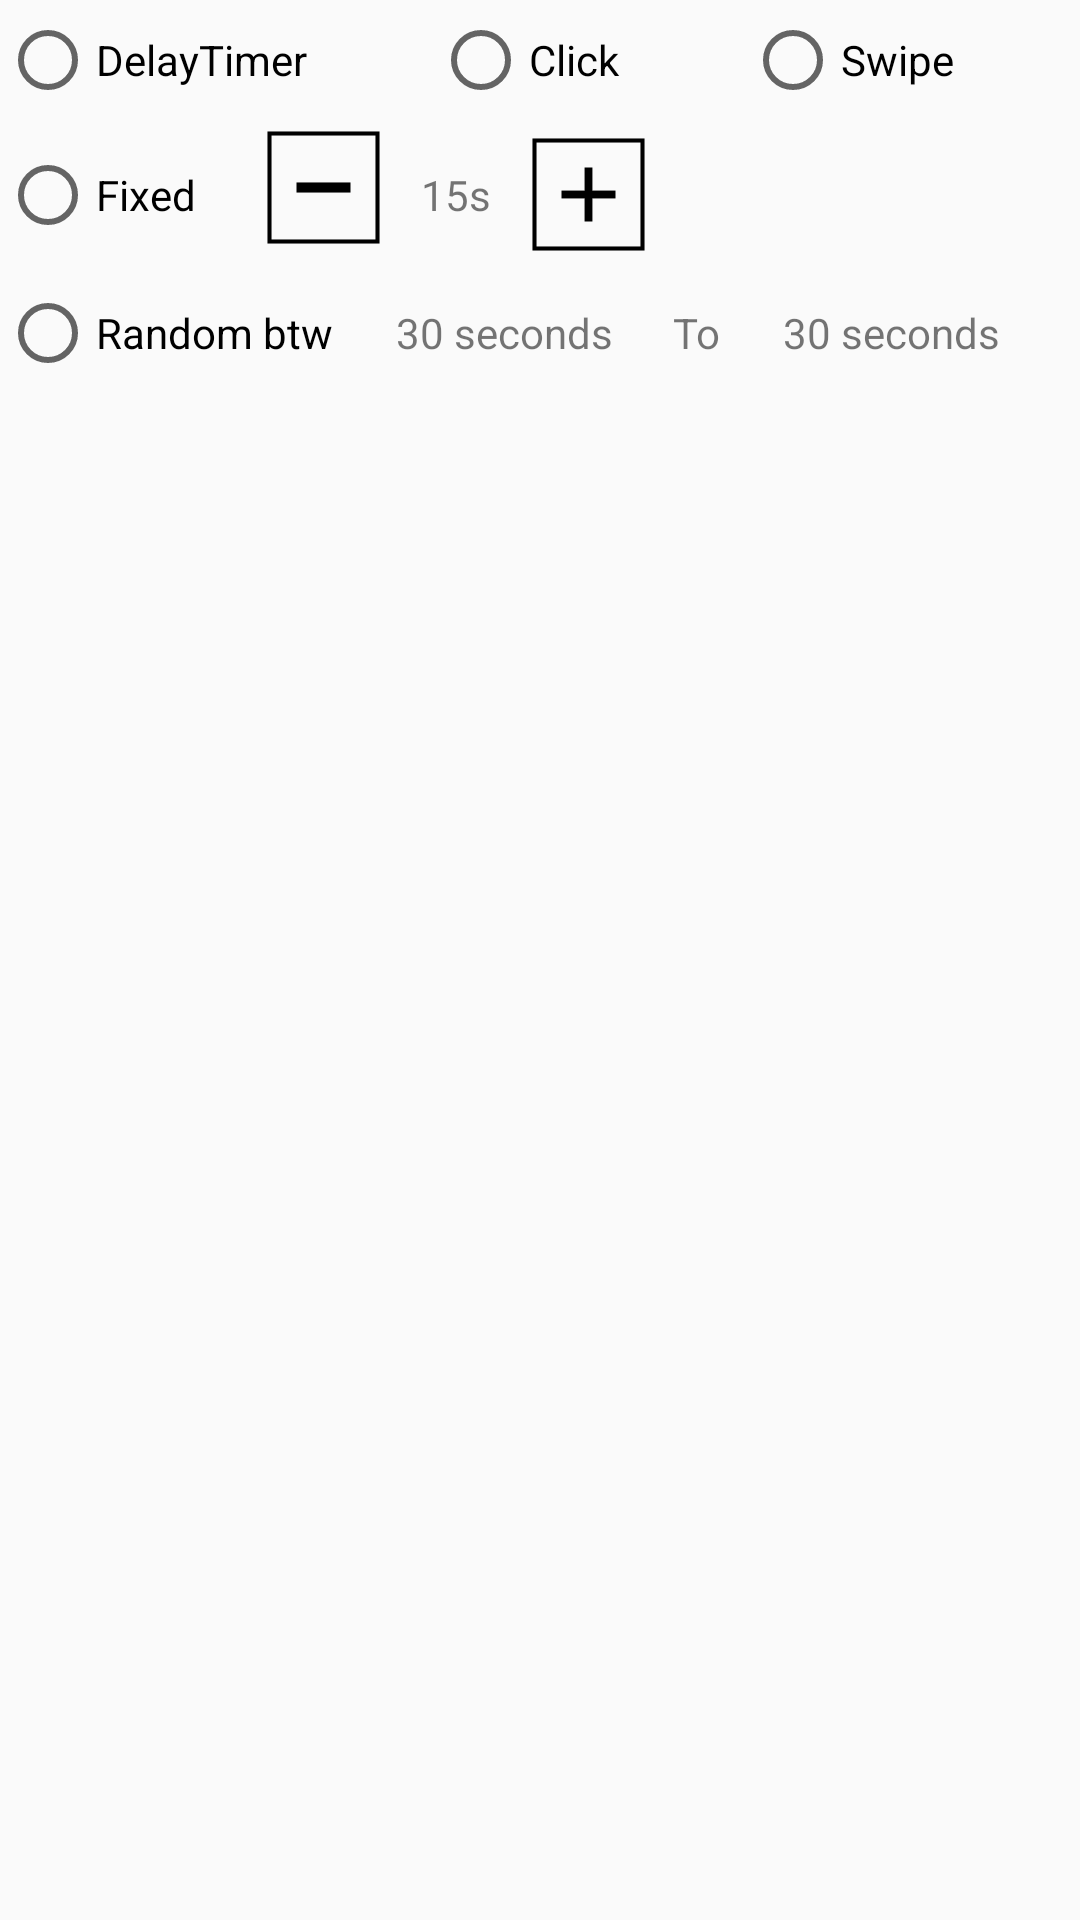

Screen size 1080 × 1920. Icon name, then its center in pixels as point (x, y):
minusselector: point (323, 187)
plusselector: point (588, 194)
